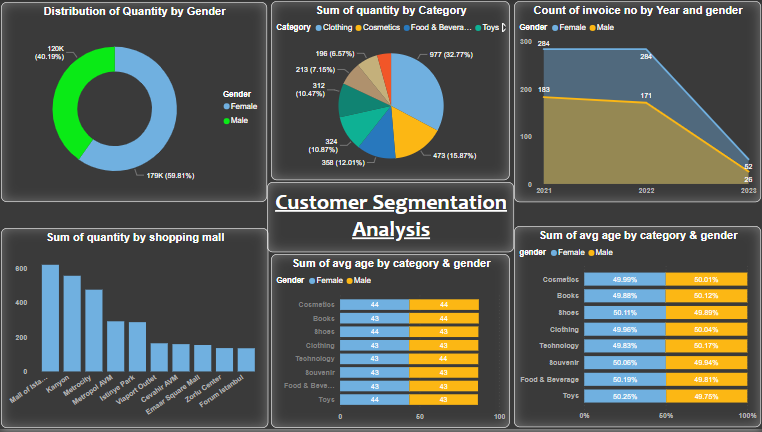

Layout of this report page (visuals, bound fields, positions):
{"tool":"powerbi","page":{"name":"Page 1","canvas":[1280,720],"ordinal":0},"visuals":[{"type":"barChart","title":"Sum of avg age by category & gender","fields":{"Category":["category_avg_age_by gender.category"],"Series":["category_avg_age_by gender.gender"],"Y":["Sum(category_avg_age_by gender.avg_age)"]},"box":[455.2,426.7,401.5,292.3],"z":0},{"type":"pieChart","fields":{"Category":["customer.category"],"Y":["Sum(customer.quantity)"]},"box":[455.2,1.7,401.5,300.7],"z":1000},{"type":"donutChart","title":"Distribution of Quantity by Gender ","fields":{"Y":["Sum(shoping_distribution.total_quantity)"],"Category":["shoping_distribution.gender"]},"box":[1.7,3.4,446.8,336],"z":2000},{"type":"columnChart","title":"Sum of quantity by shopping mall","fields":{"Y":["Sum(customer.quantity)"],"Category":["customer.shopping_mall"]},"box":[1.7,383,448.5,336],"z":3000},{"type":"areaChart","title":"Count of invoice no by Year and gender","fields":{"Category":["customer.invoice_date.Variation.Date Hierarchy.Year"],"Y":["CountNonNull(customer.invoice_no)"],"Series":["customer.gender"]},"box":[863.4,1.7,414.9,337.6],"z":4000},{"type":"hundredPercentStackedBarChart","title":"Sum of avg age by category & gender","fields":{"Category":["category_avg_age_by gender.category"],"Y":["Sum(category_avg_age_by gender.avg_age)"],"Series":["category_avg_age_by gender.gender"]},"box":[863.4,379.6,414.9,337.6],"z":5000},{"type":"textbox","box":[448.5,305.7,414.9,117.6],"z":6000}]}

Visuals, with their boxes in screenshot pixels (x1, y1, x2, y2), scaled from the page's 1280x720 canvas onto the 762x432 screenshot:
"Sum of avg age by category & gender" barChart: bbox=[271, 256, 510, 431]
pieChart - customer.category x Sum(customer.quantity): bbox=[271, 1, 510, 181]
"Distribution of Quantity by Gender " donutChart: bbox=[1, 2, 267, 204]
"Sum of quantity by shopping mall" columnChart: bbox=[1, 230, 268, 431]
"Count of invoice no by Year and gender" areaChart: bbox=[514, 1, 761, 204]
"Sum of avg age by category & gender" hundredPercentStackedBarChart: bbox=[514, 228, 761, 430]
textbox: bbox=[267, 183, 514, 254]
